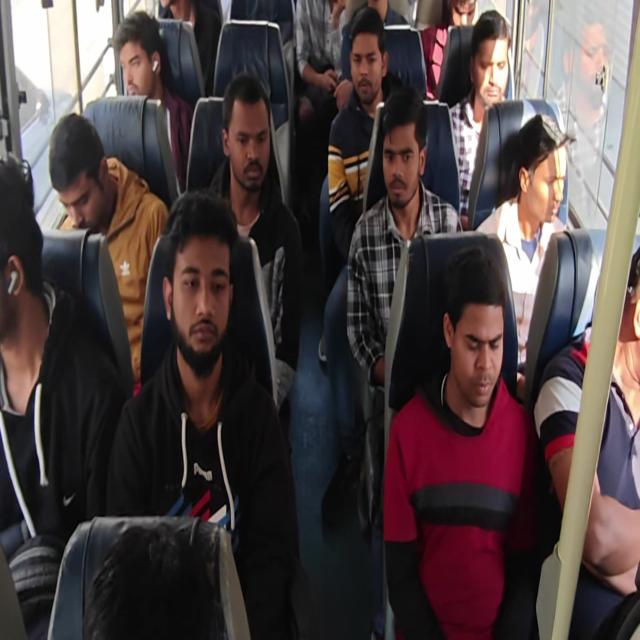person: (1, 2, 638, 638), (105, 188, 302, 638), (382, 245, 541, 638), (0, 151, 125, 637), (319, 6, 402, 518), (534, 244, 640, 598), (346, 86, 462, 390), (48, 112, 169, 394), (206, 72, 302, 416), (474, 112, 570, 392), (326, 7, 401, 261), (82, 522, 228, 639), (113, 10, 193, 194), (448, 9, 513, 225), (551, 17, 616, 228), (293, 0, 349, 125), (337, 0, 410, 89), (158, 0, 221, 95), (420, 0, 477, 101), (342, 0, 410, 29)
